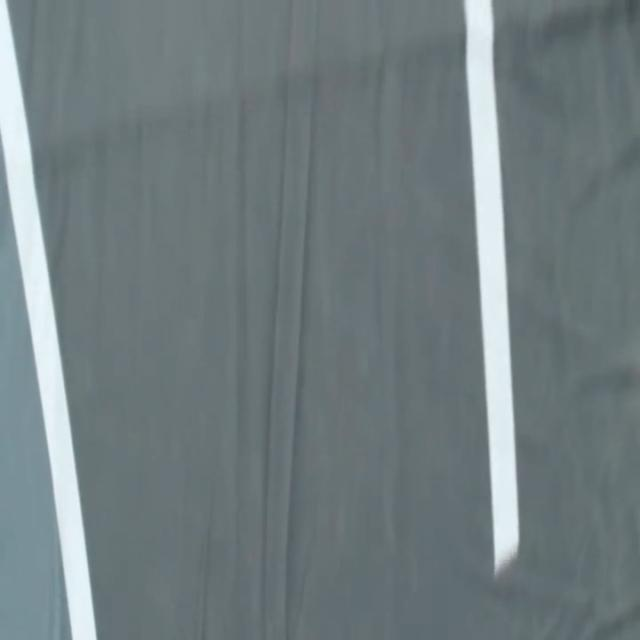center: (463, 0, 519, 573)
